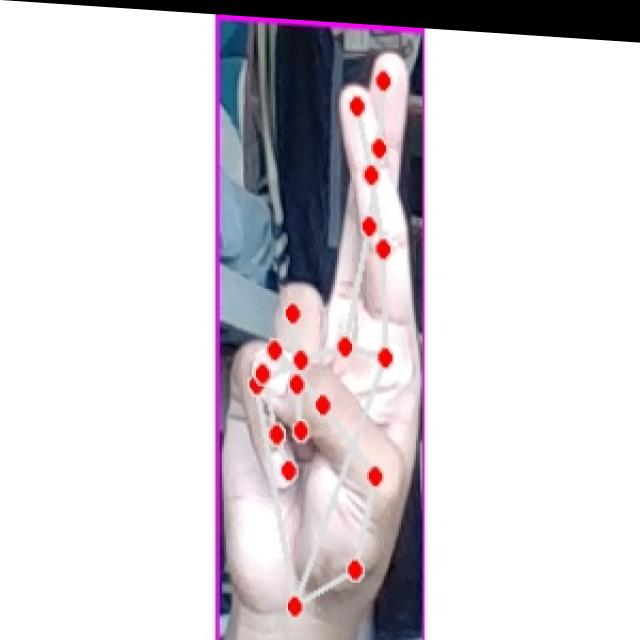R: (226, 33, 415, 640)
